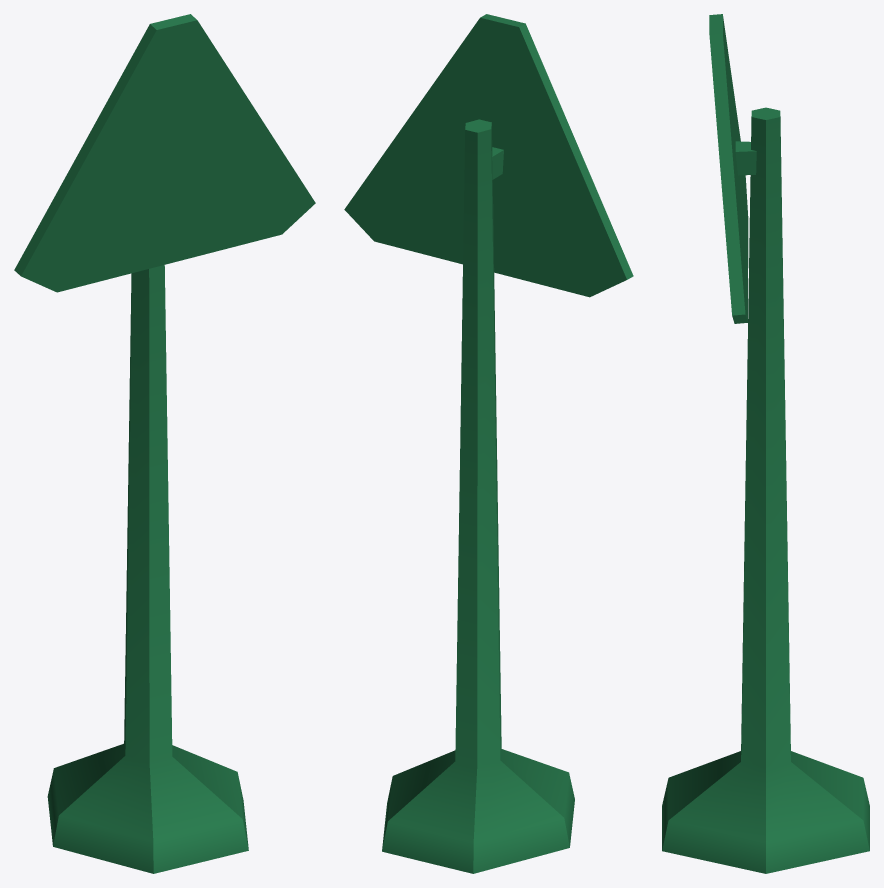
File: Triangle_sign.fbx
The picture shows the model from 3 angles, left to right: view 1: azimuth 30°, elevation 25°; view 2: azimuth 150°, elevation 25°; view 3: azimuth 270°, elevation 25°; orthographic projection. The views are drawn at different scales.
Visible parts, largest first — view 1: pCylinder2; view 2: pCylinder2; view 3: pCylinder2.
Boxes of the visible parts, x1=… form: pCylinder2: x1=14, y1=14, x2=315, y2=873; pCylinder2: x1=344, y1=14, x2=633, y2=873; pCylinder2: x1=662, y1=14, x2=869, y2=873.
Size of the model in its own units: 0.6768 by 1.8 by 0.4214.
